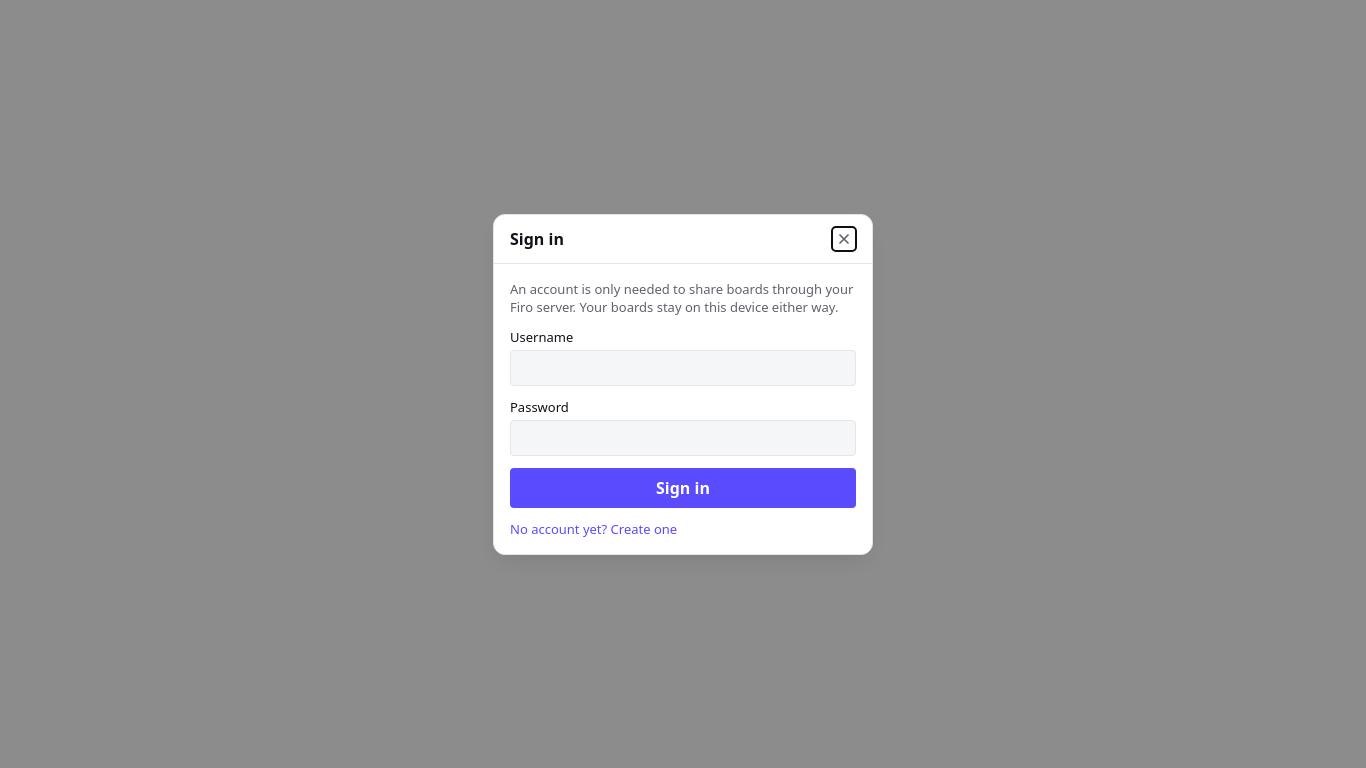
Test: AuthDialog › shows a generic message when the server cannot be reached
The image size is (1366, 768).
Step 1. Type "ann" into the field with test id "auth-username" → (683, 368), box left=510, top=350, right=856, bottom=386
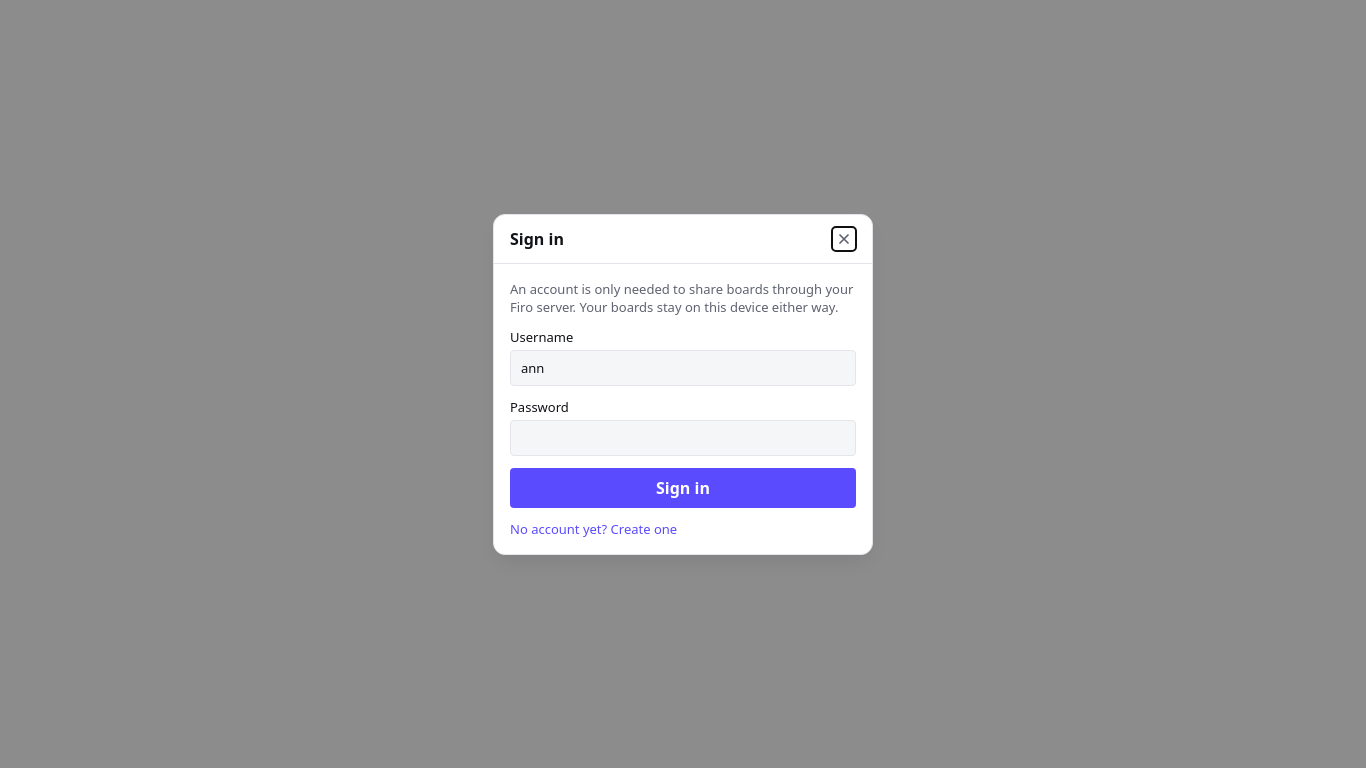
Step 2. Type "secret1" into the password field with test id "auth-password" → (683, 438), box left=510, top=420, right=856, bottom=456
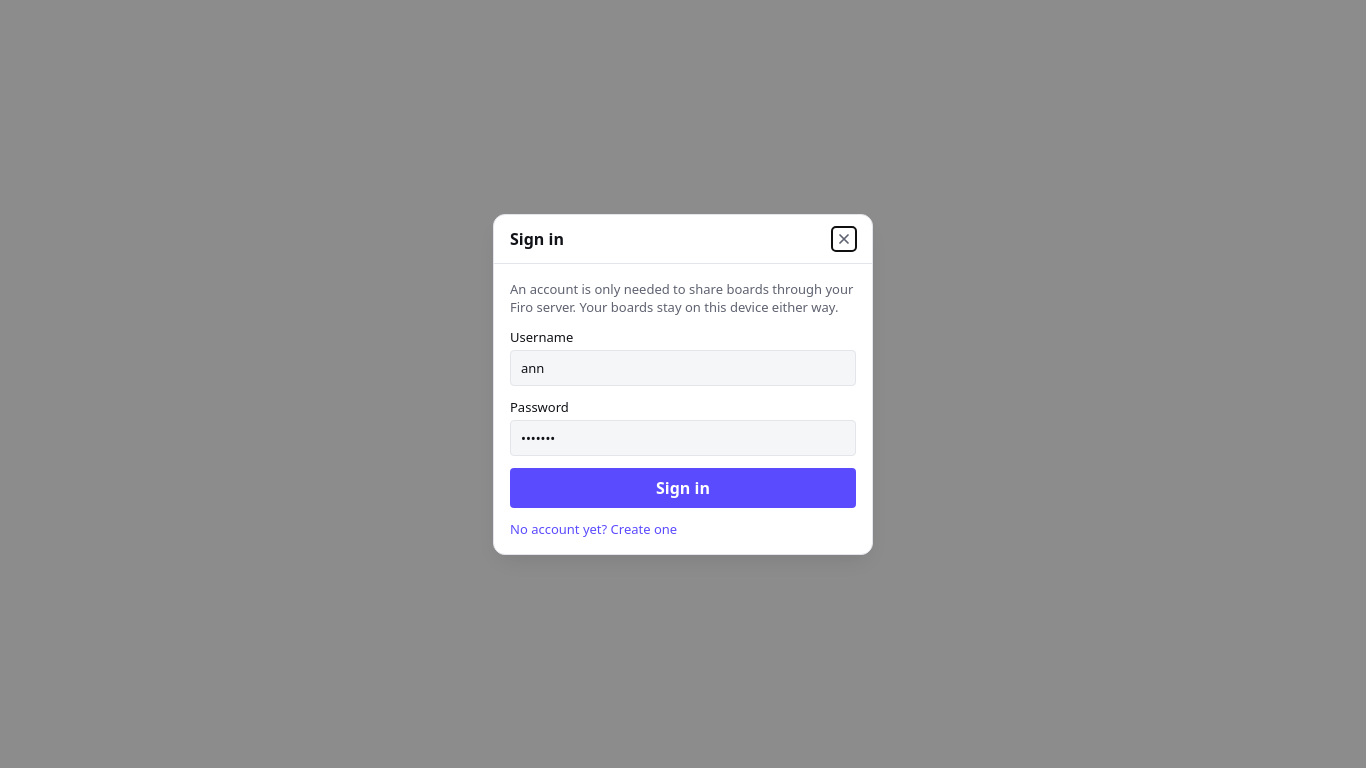
Step 3. Click the button with test id "auth-submit" → (683, 488), box left=510, top=468, right=856, bottom=508
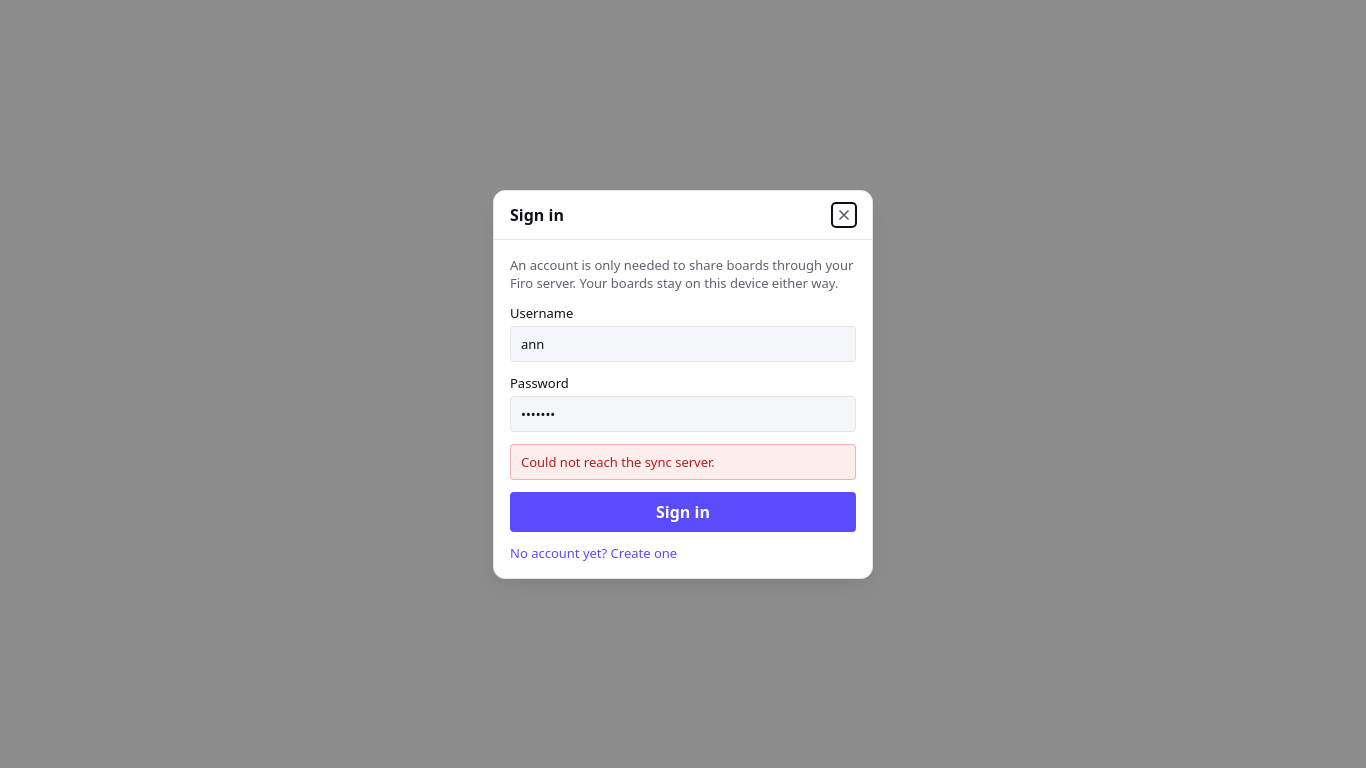
Now the message reads "Could not reach the sync server.", box left=521, top=452, right=715, bottom=470
